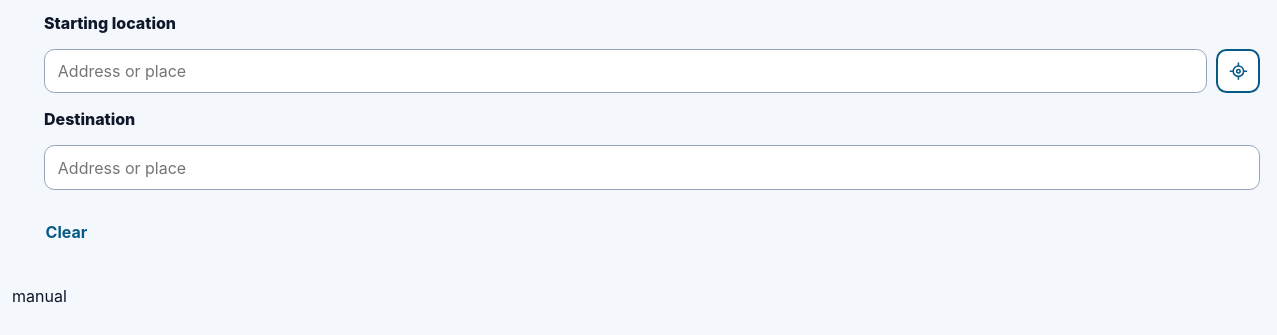
TripPlanner › ignores a device location response after Clear or manual typing
The image size is (1277, 335).
Click the button named "Use my location". click: (1238, 71)
box: [1216,49,1260,93]
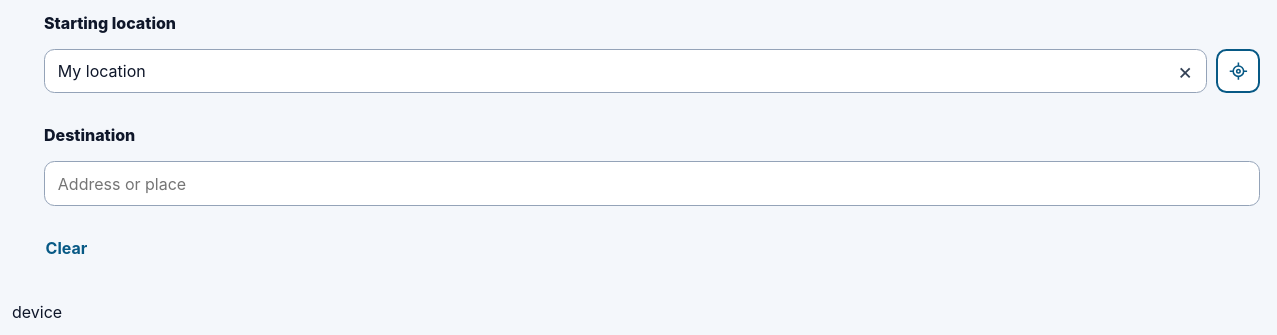
Click the button "Clear". click: (66, 248)
box: [44,226,89,270]
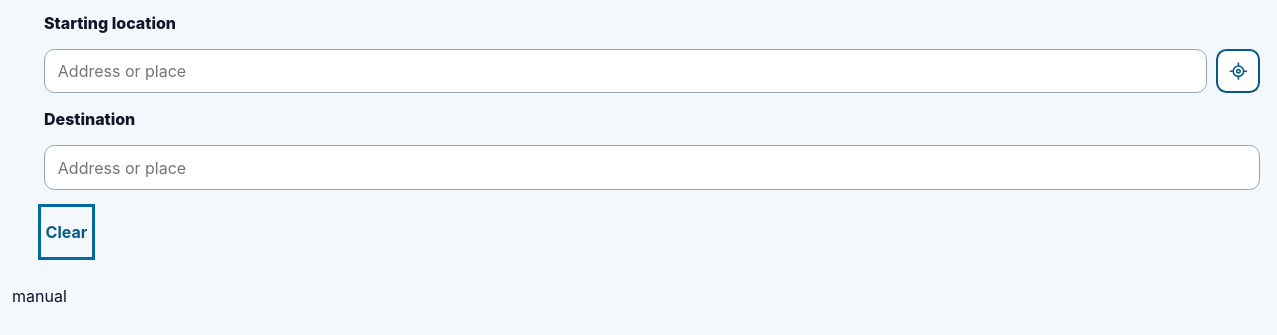
Check: the dropdown labelled "Starting location" is empty, box [44,49,1207,93]
Check: the text named "Origin source" reads "manual", box [12,286,67,306]
Click the button named "Use my location". click: (1238, 71)
box: [1216,49,1260,93]
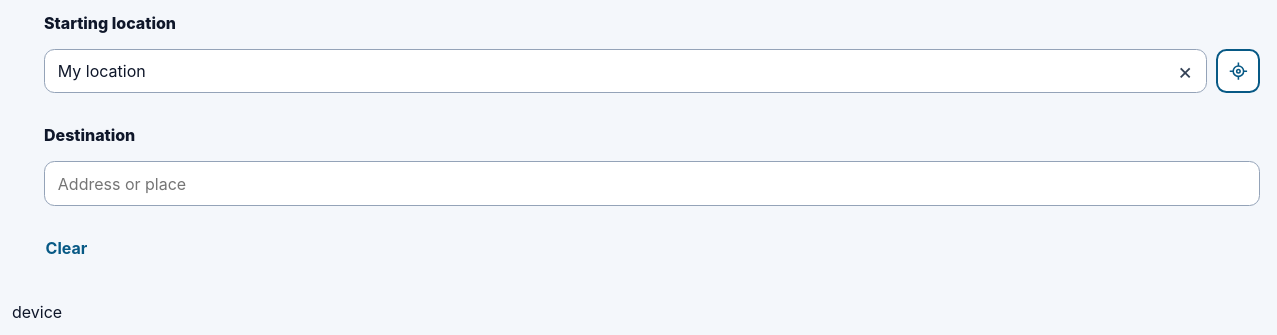
Replace the text in the dropdown labelled "Starting location" with "Entered address". click: (626, 71)
box: [44,49,1207,93]
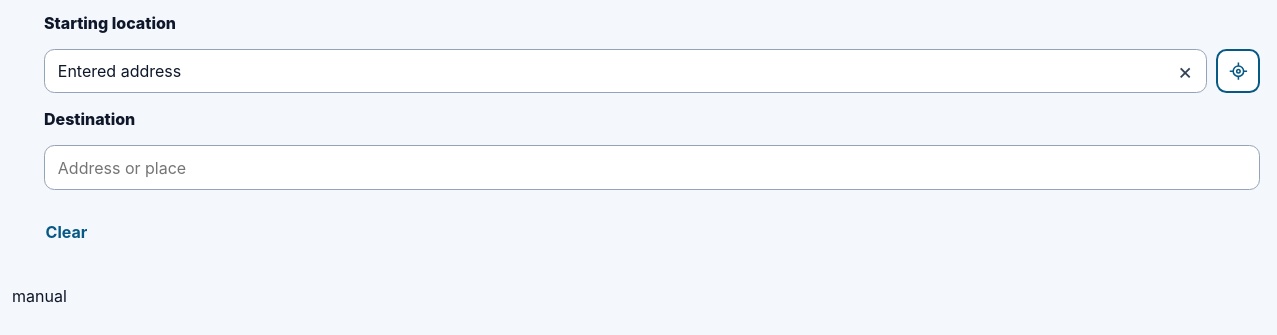
Check: the text named "Origin source" reads "manual", box [12,286,67,306]
